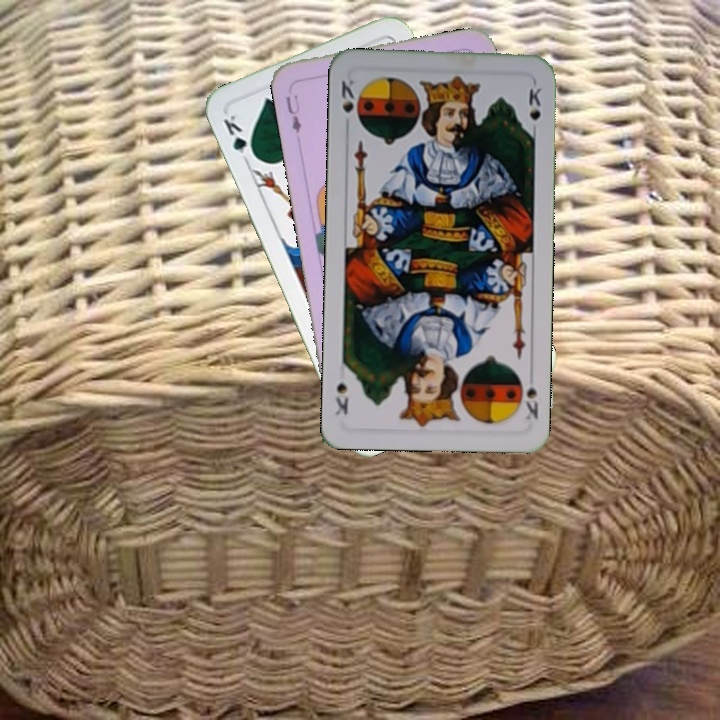EU: (282, 90, 304, 136)
GK: (219, 110, 259, 167)
SK: (514, 368, 541, 422), (337, 73, 357, 116)
